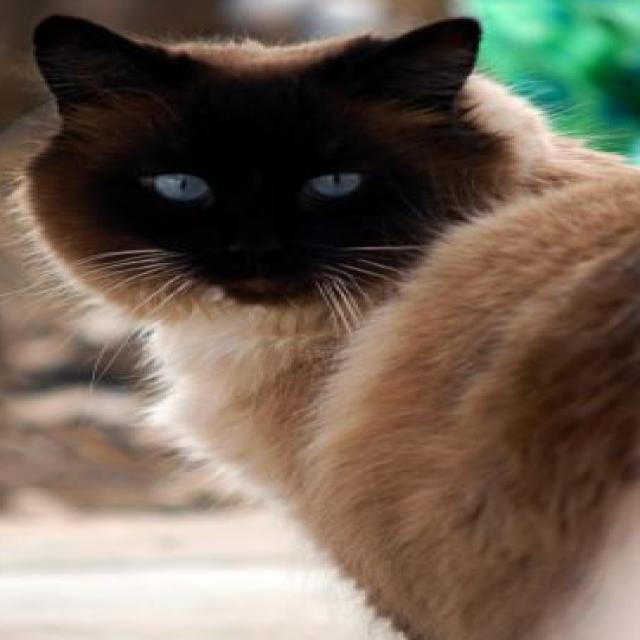Birman: (7, 9, 640, 640)
